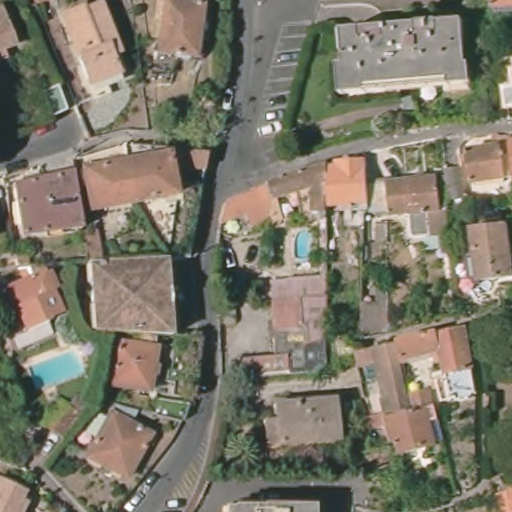pool: (29, 354, 87, 391), (291, 226, 313, 258)
